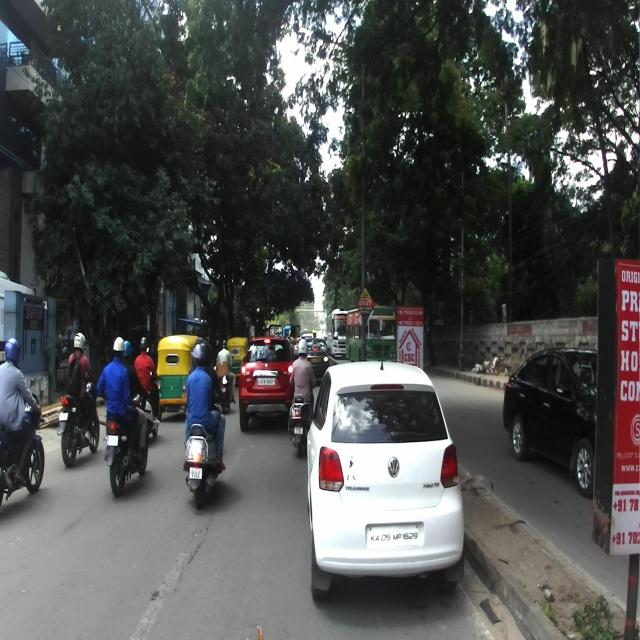car: (300, 340, 464, 598), (239, 336, 296, 430)
motorcycle: (103, 388, 152, 496), (0, 392, 45, 508), (56, 380, 98, 466)
scooter: (184, 373, 229, 509), (287, 378, 316, 458)
